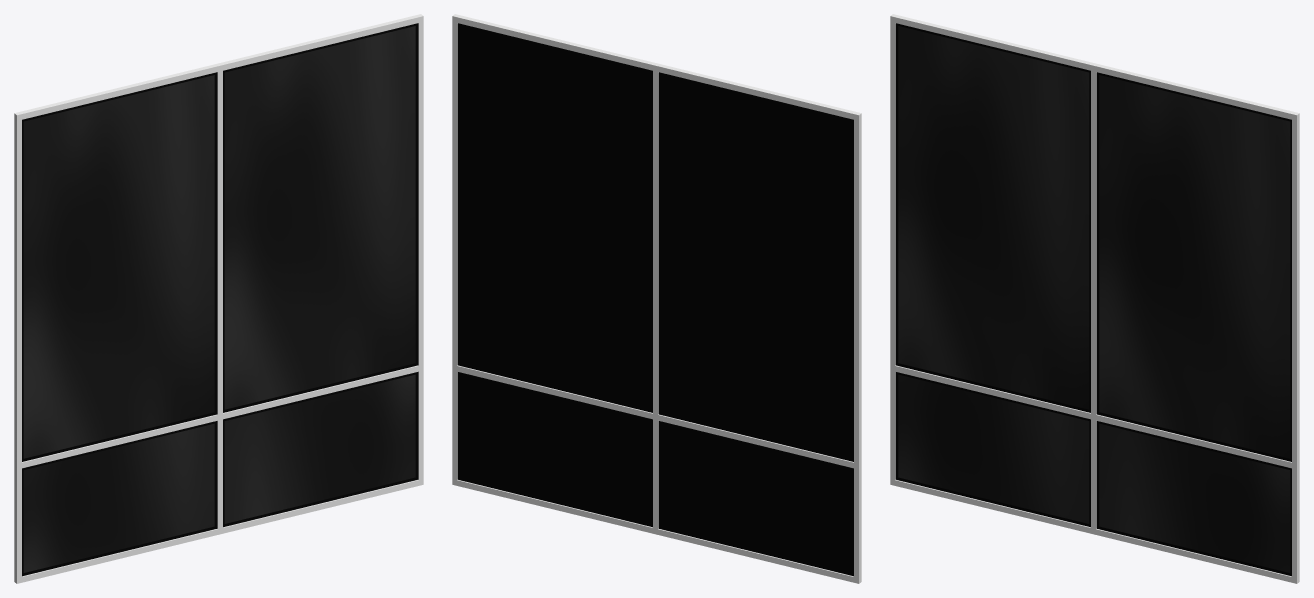
The model's file is Stair_Window_001.fbx.
3 renders of one model, left to right at view 1: azimuth 30°, elevation 25°; view 2: azimuth 150°, elevation 25°; view 3: azimuth 330°, elevation 25°, orthographic.
Parts seen in each view (by area): view 1: Stair_Window_001; view 2: Stair_Window_001; view 3: Stair_Window_001.
Boxes of the visible parts, box(x1,y1,x2,y2) form: Stair_Window_001: box(14, 14, 423, 583); Stair_Window_001: box(452, 14, 861, 583); Stair_Window_001: box(890, 14, 1299, 583).
Bounding box in the file's own units: 199 × 219 × 2.4.
3 materials, 1 textured.
